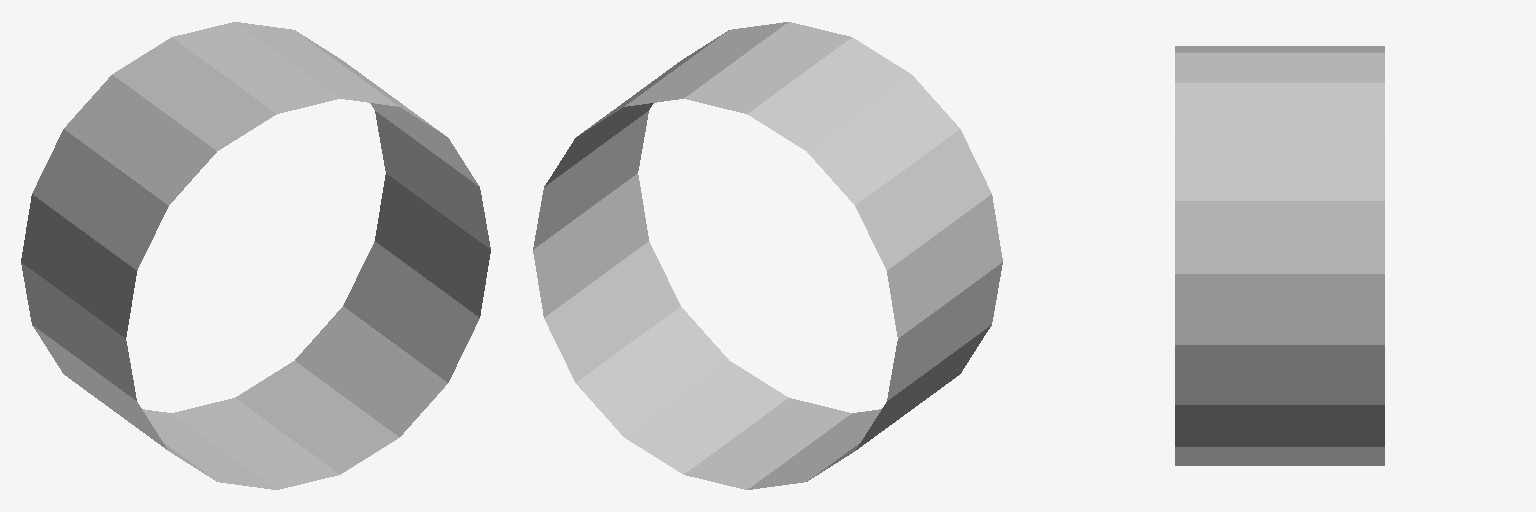
Rendered from ringCloth.obj.
3 renders of one model, left to right at view 1: azimuth 30°, elevation 25°; view 2: azimuth 150°, elevation 25°; view 3: azimuth 270°, elevation 25°, orthographic.
Parts seen in each view (by area): view 1: Cylinder01; view 2: Cylinder01; view 3: Cylinder01.
Boxes of the visible parts, x1,y1,x2,y2 form: Cylinder01: [21, 22, 490, 489]; Cylinder01: [533, 22, 1002, 489]; Cylinder01: [1175, 46, 1384, 465].
Bounding box in the file's own units: 2 × 1.97 × 1.